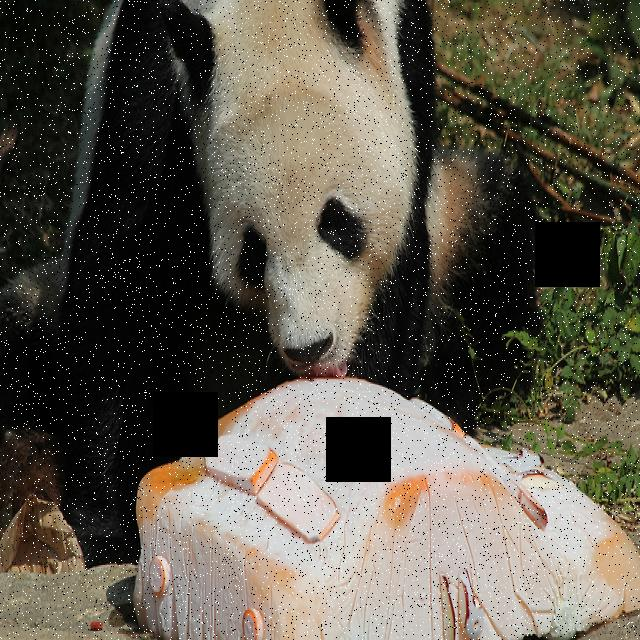Bear: (46, 1, 546, 466)
